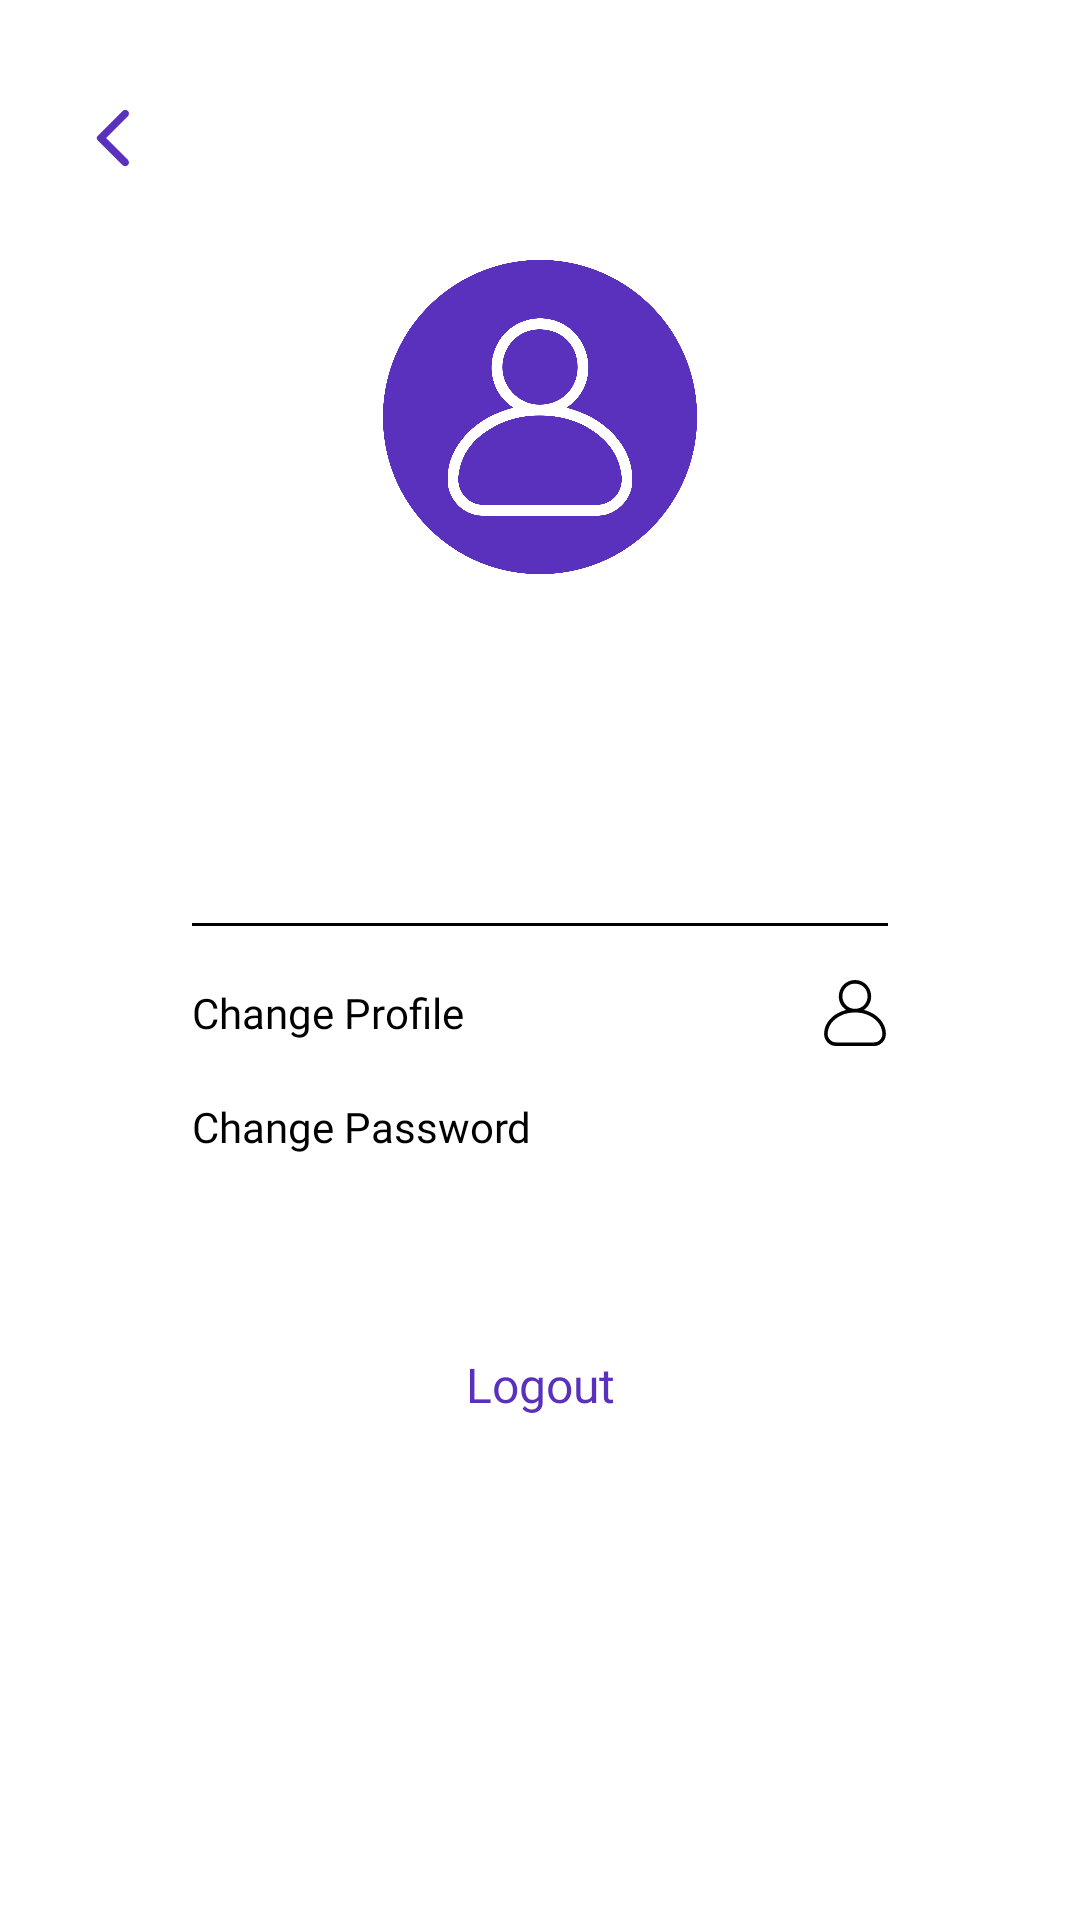

Icons on this 1080×1920 Android screen, each with its box as (x1, y1, x2, y2):
arrow back: (96, 110, 129, 167)
profile: (383, 260, 697, 574)
